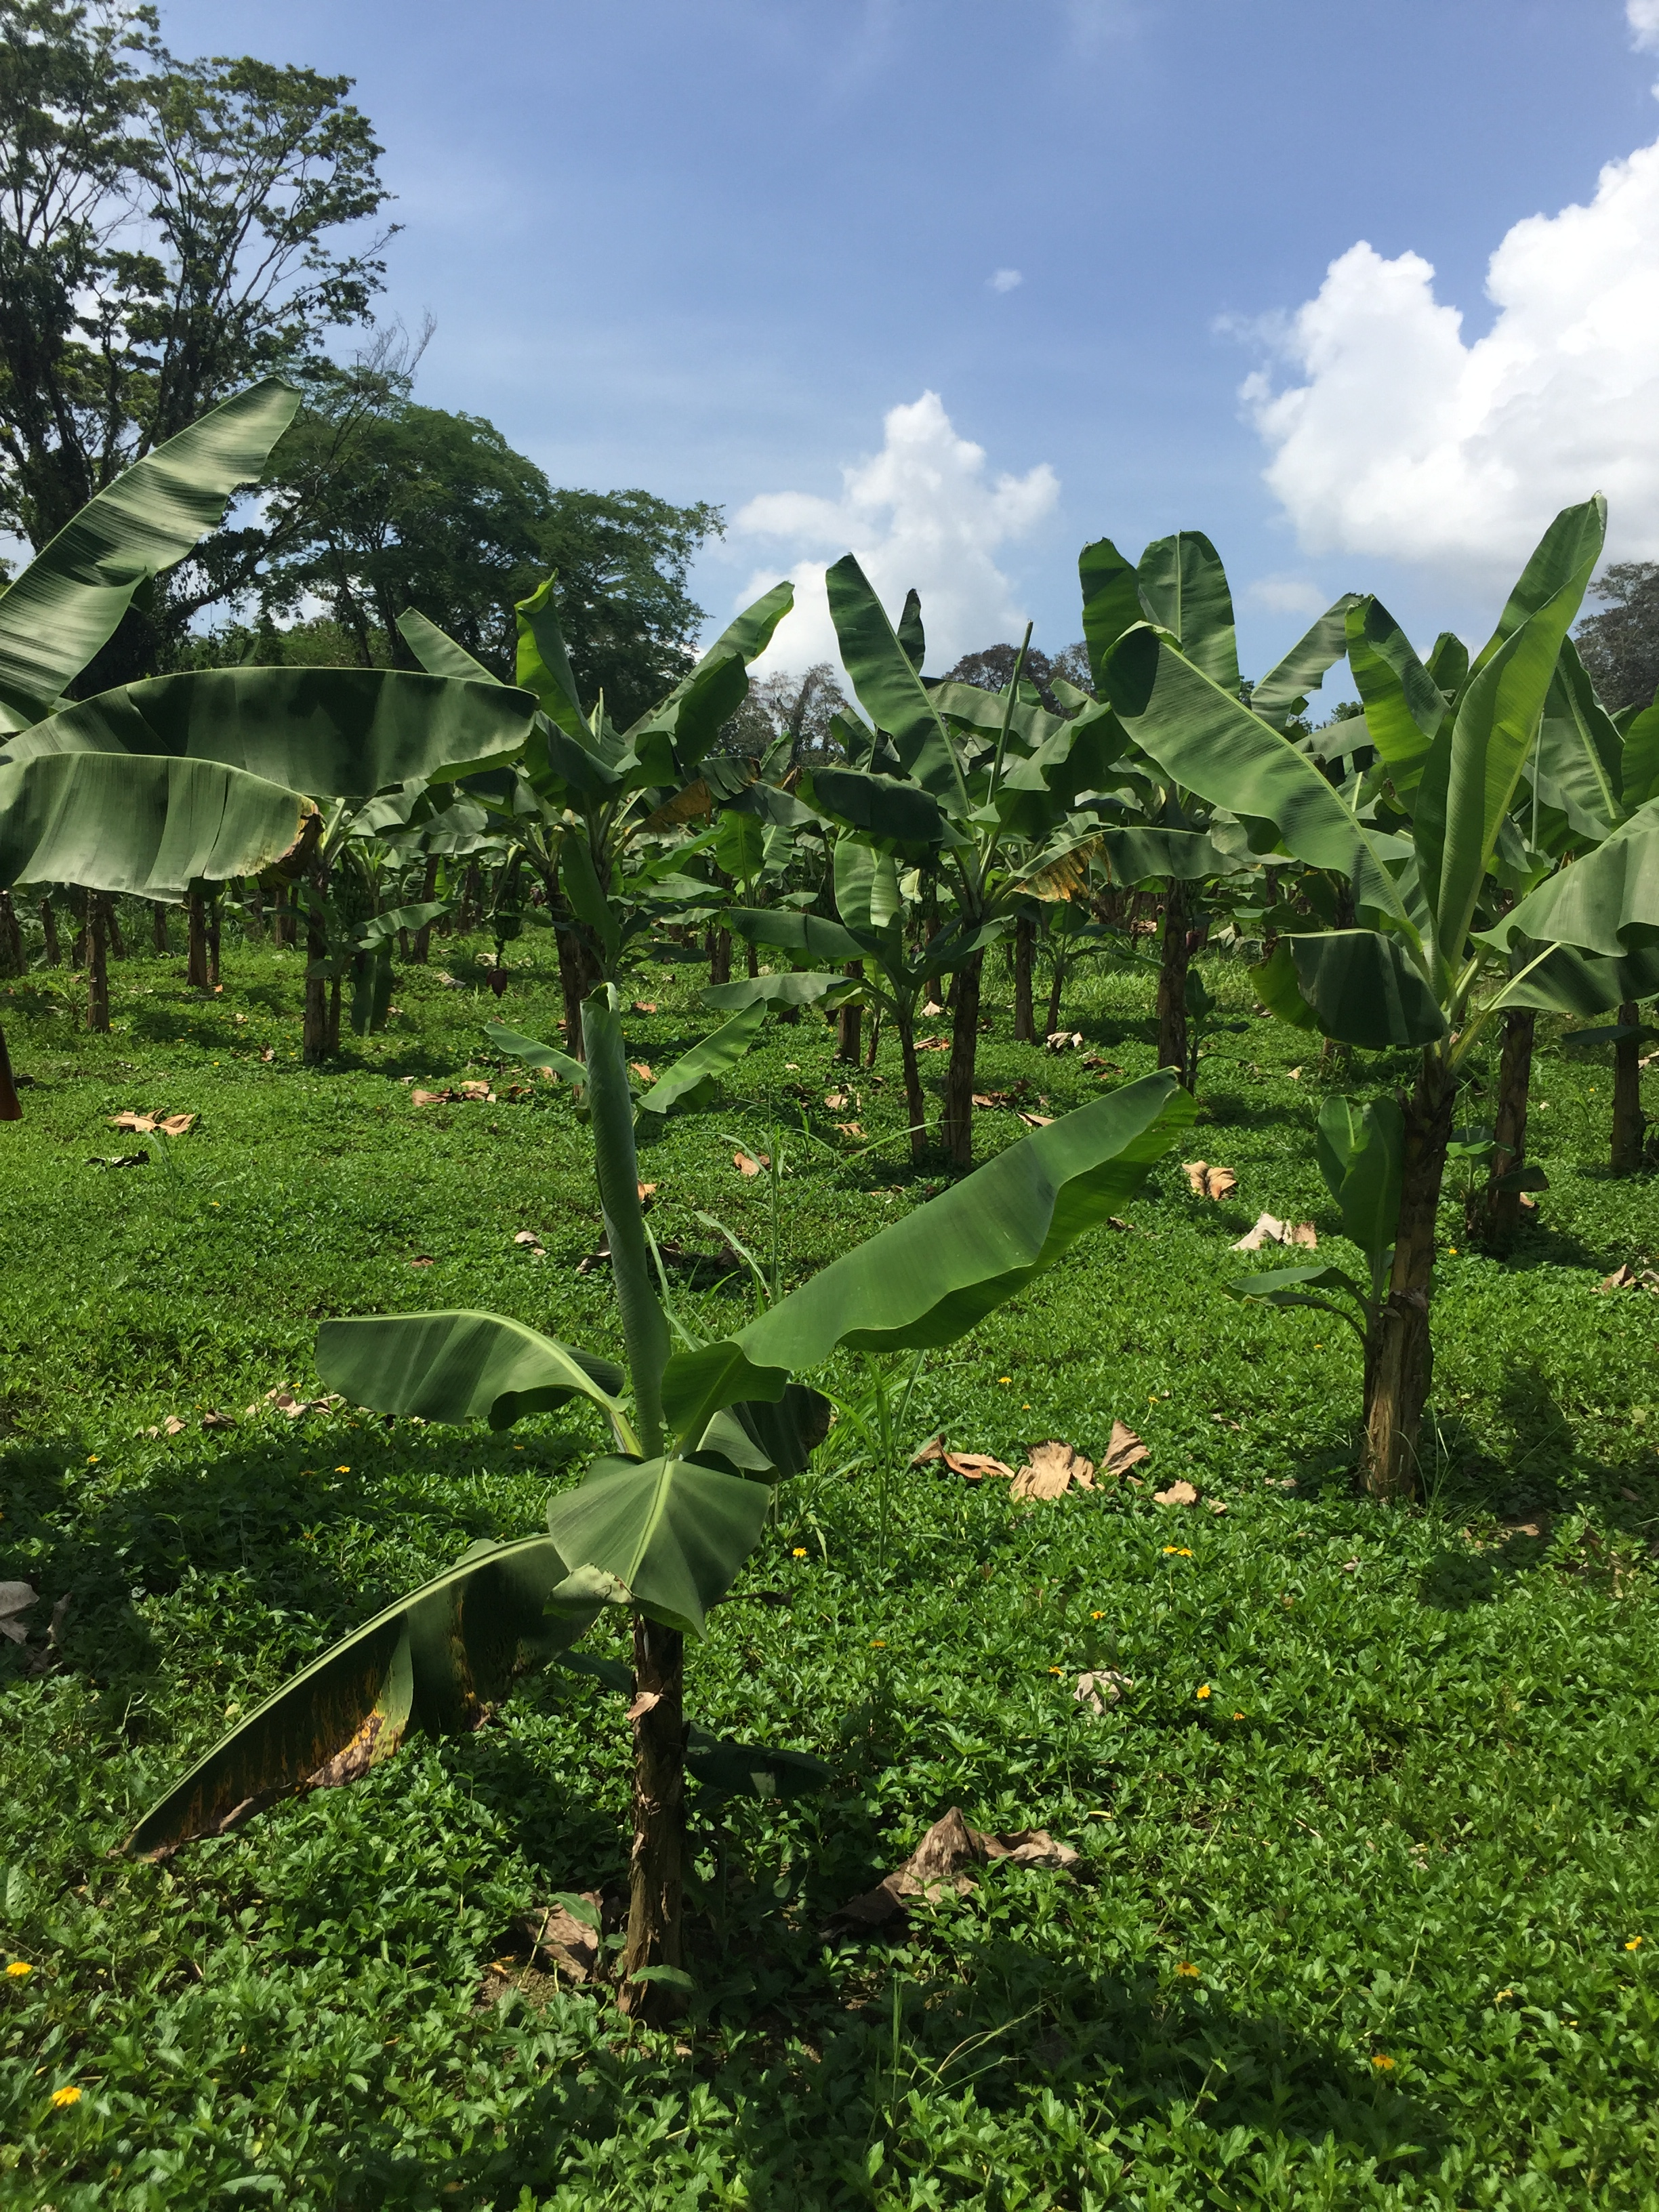candleleafs: (580, 981, 667, 1458), (1438, 620, 1532, 960), (985, 620, 1033, 806)
